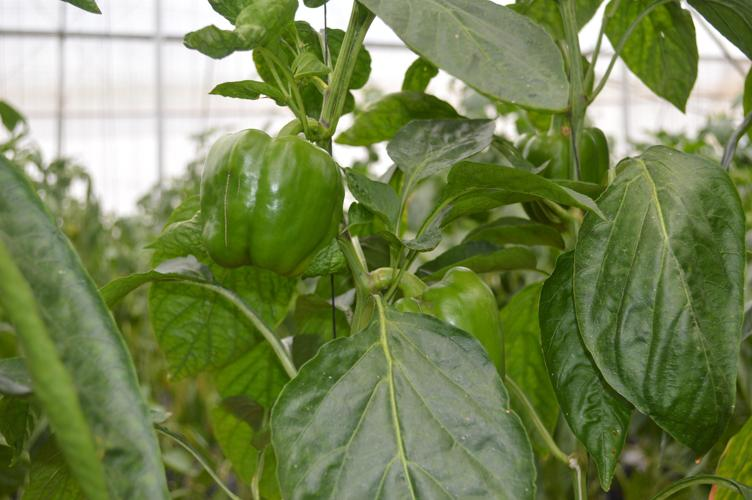BellPepper: (195, 129, 348, 279), (395, 262, 510, 367), (510, 128, 613, 213)
